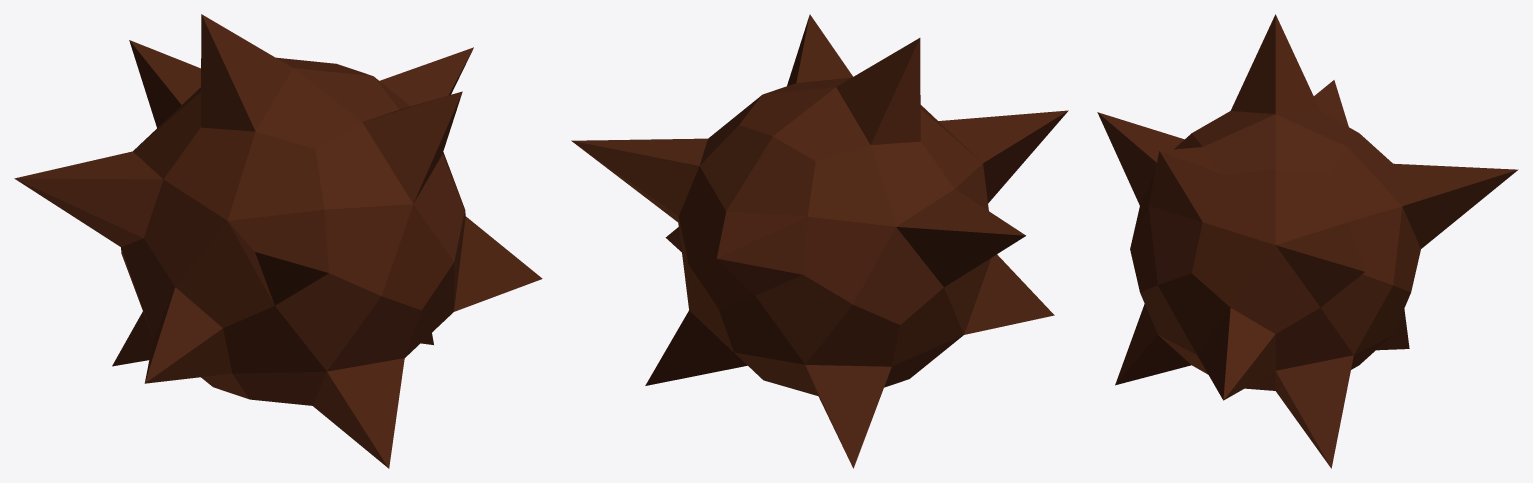
The model's file is quaternius-sushi-restaurant-foodingredient-seaurchin.glb.
3 renders of one model, left to right at view 1: azimuth 30°, elevation 25°; view 2: azimuth 150°, elevation 25°; view 3: azimuth 270°, elevation 25°, orthographic. The views are drawn at different scales.
Visible parts, largest first — view 1: FoodIngredient_SeaUrchin; view 2: FoodIngredient_SeaUrchin; view 3: FoodIngredient_SeaUrchin.
Part boxes in pixels (x1,y1,x2,y2): FoodIngredient_SeaUrchin: (14,14,542,468); FoodIngredient_SeaUrchin: (571,14,1068,468); FoodIngredient_SeaUrchin: (1097,14,1518,468).
Bounding box in the file's own units: 0.8207 × 0.6897 × 0.7579.
Materials: 1 (1 with a texture image).
